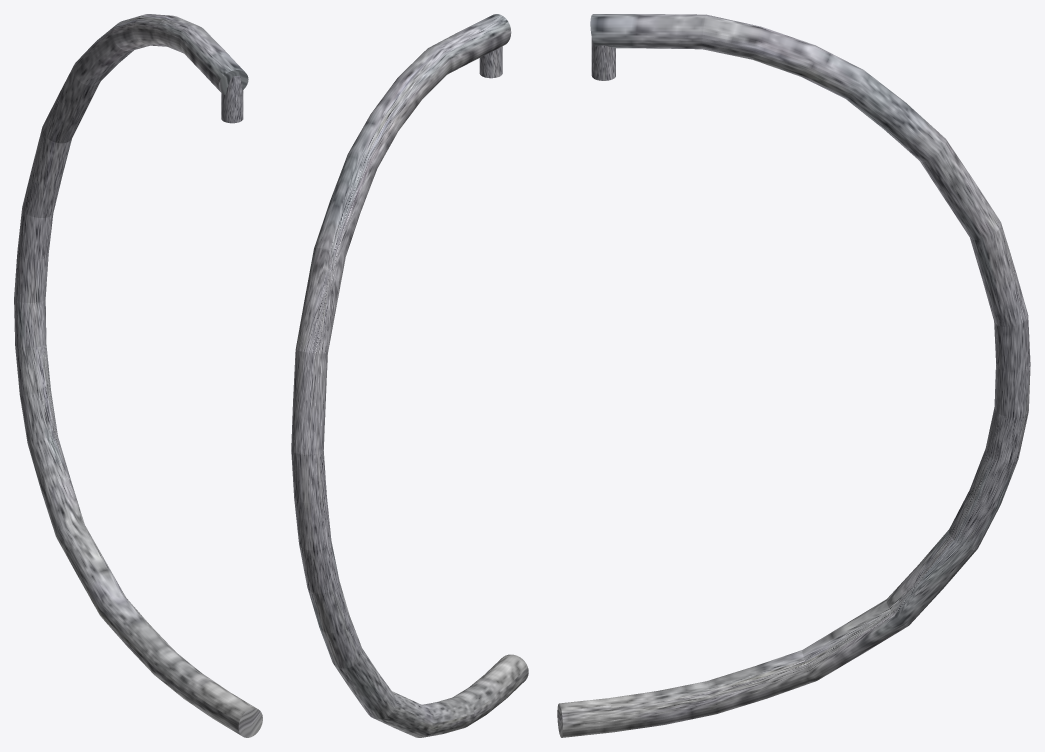
The model's file is stand.obj.
The picture shows the model from 3 angles, left to right: view 1: azimuth 30°, elevation 25°; view 2: azimuth 150°, elevation 25°; view 3: azimuth 270°, elevation 25°; orthographic projection. The views are drawn at different scales.
Parts seen in each view (by area): view 1: Cylinder_Cylinder.011; view 2: Cylinder_Cylinder.011; view 3: Cylinder_Cylinder.011.
Part boxes in pixels (box(x1,y1,x2,y2)): Cylinder_Cylinder.011: box(14, 14, 262, 737); Cylinder_Cylinder.011: box(291, 14, 528, 737); Cylinder_Cylinder.011: box(557, 14, 1030, 737).
Bounding box in the file's own units: 0.2386 × 2.33 × 1.38.
